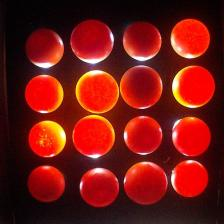fertile: (70, 18, 114, 64), (124, 162, 168, 206), (120, 65, 163, 109), (122, 20, 162, 61), (123, 115, 163, 155), (79, 168, 119, 207), (26, 28, 64, 68), (27, 165, 65, 202)
infertile: (75, 70, 120, 114), (72, 115, 116, 158), (172, 66, 215, 108), (171, 18, 211, 59), (171, 116, 212, 156), (24, 74, 64, 114), (28, 120, 66, 158), (171, 159, 209, 197)
